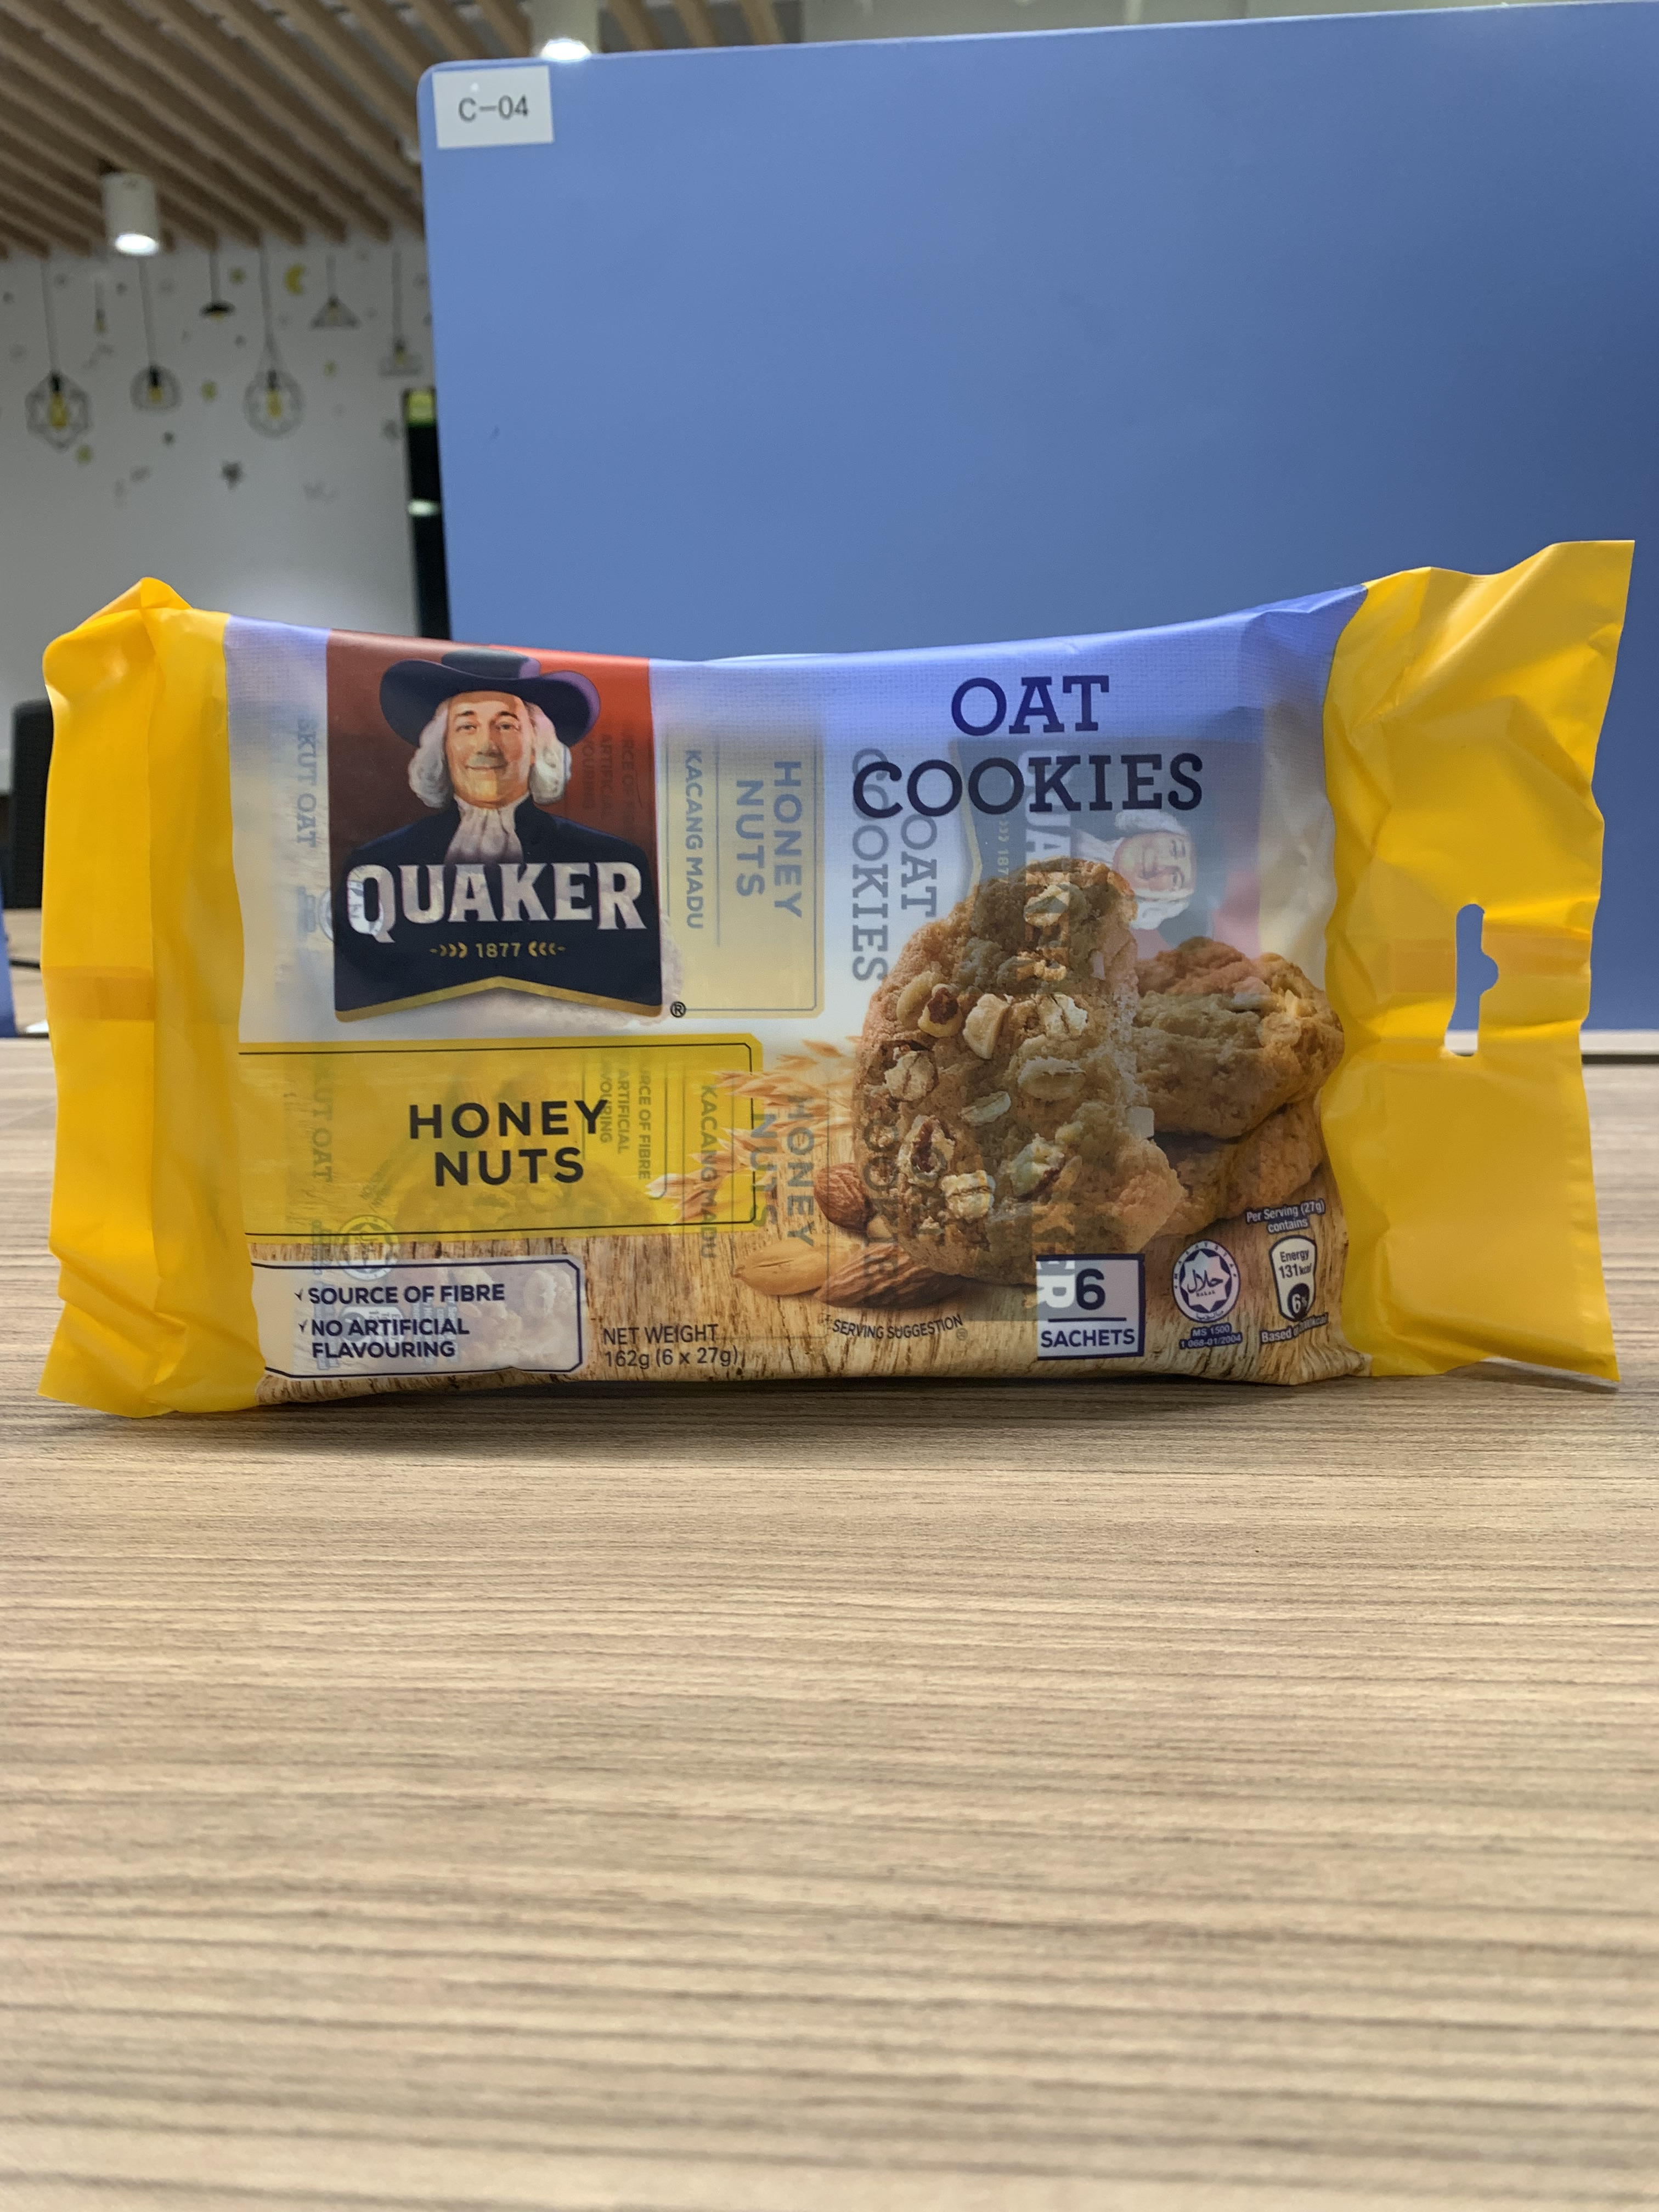cookies_100g-199g: (132, 639, 1514, 1371)
